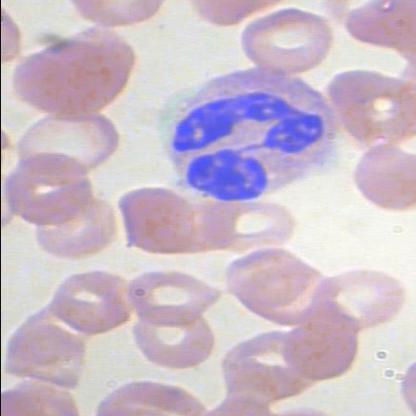RBC: (230, 7, 336, 78), (1, 148, 91, 230), (44, 268, 134, 342), (30, 198, 120, 272), (190, 200, 298, 258), (309, 268, 400, 336), (126, 310, 218, 370), (126, 268, 218, 327), (340, 142, 416, 211), (60, 1, 164, 32)
WBC: (155, 59, 336, 215)
